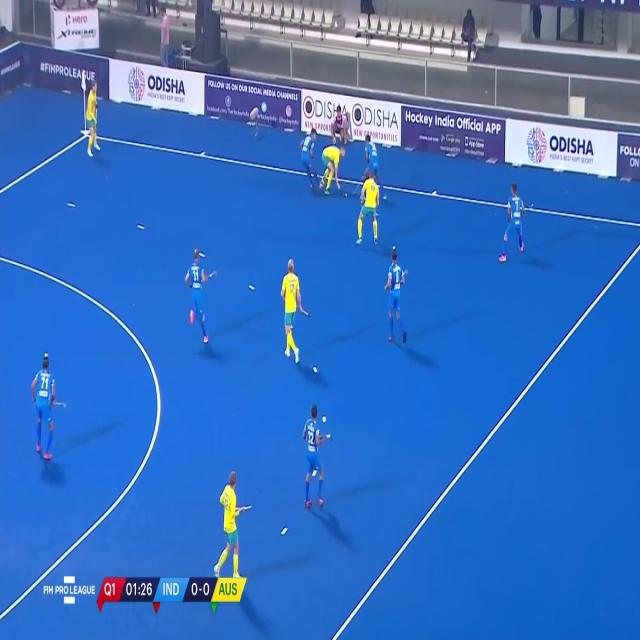ball: (342, 189, 348, 199)
